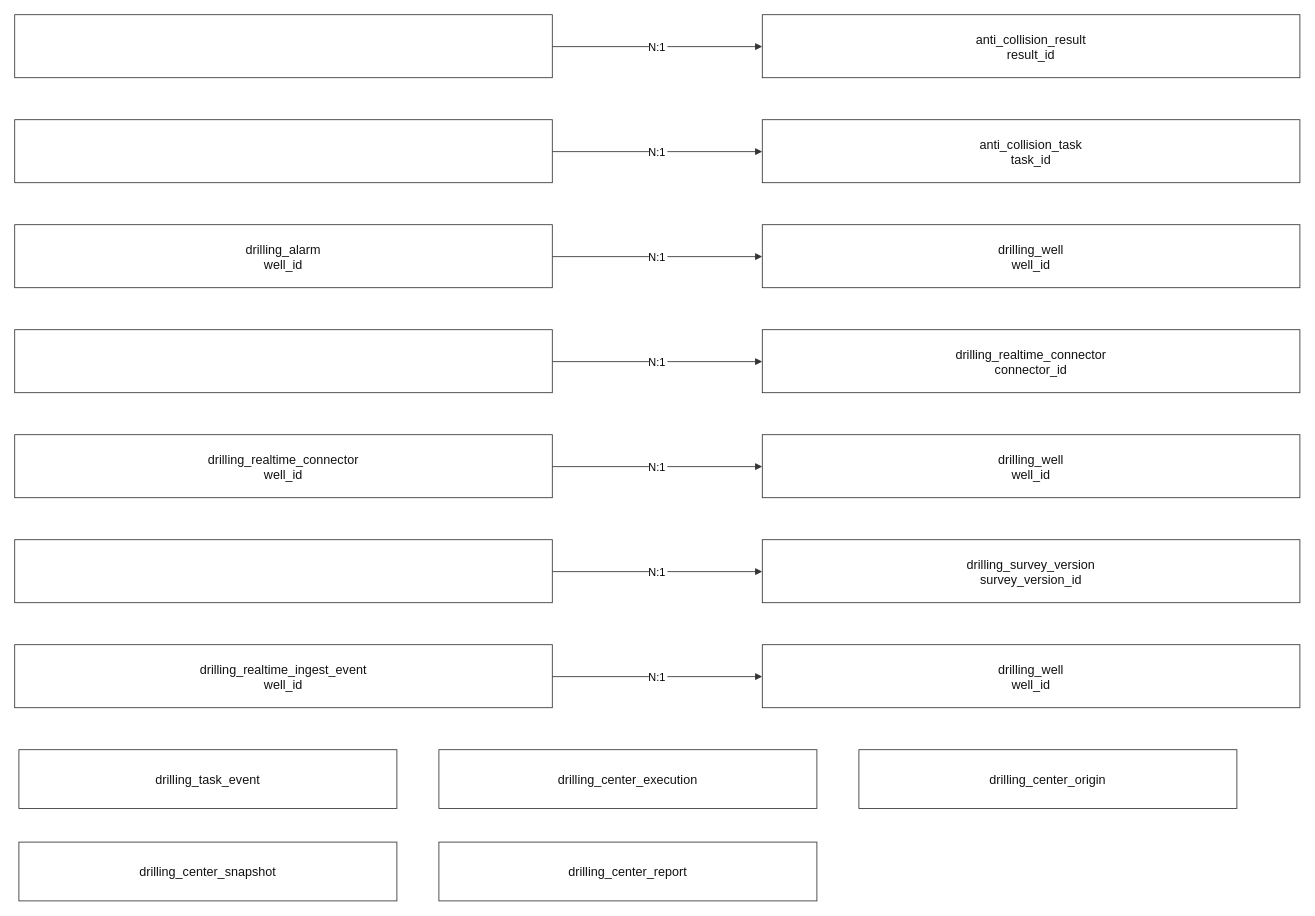
The diagram is 1315 pixels wide and 916 high, and some of its shapes have lost their labels. Here are the shapes that lost their labels. From the top down, the centre of each, then its label:
the point at 283,46: drilling_alarm result_id
the point at 283,151: drilling_alarm task_id
the point at 283,361: drilling_connector_run connector_id
the point at 283,571: drilling_realtime_ingest_event survey_version_id
